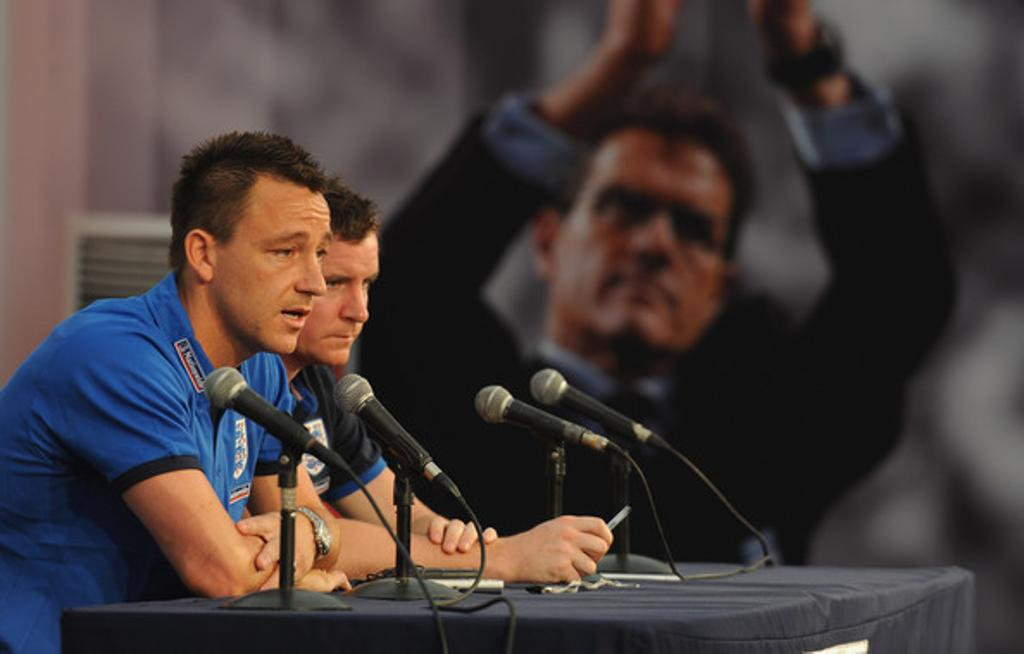face: (560, 136, 730, 340), (218, 190, 330, 350), (302, 224, 376, 364)
